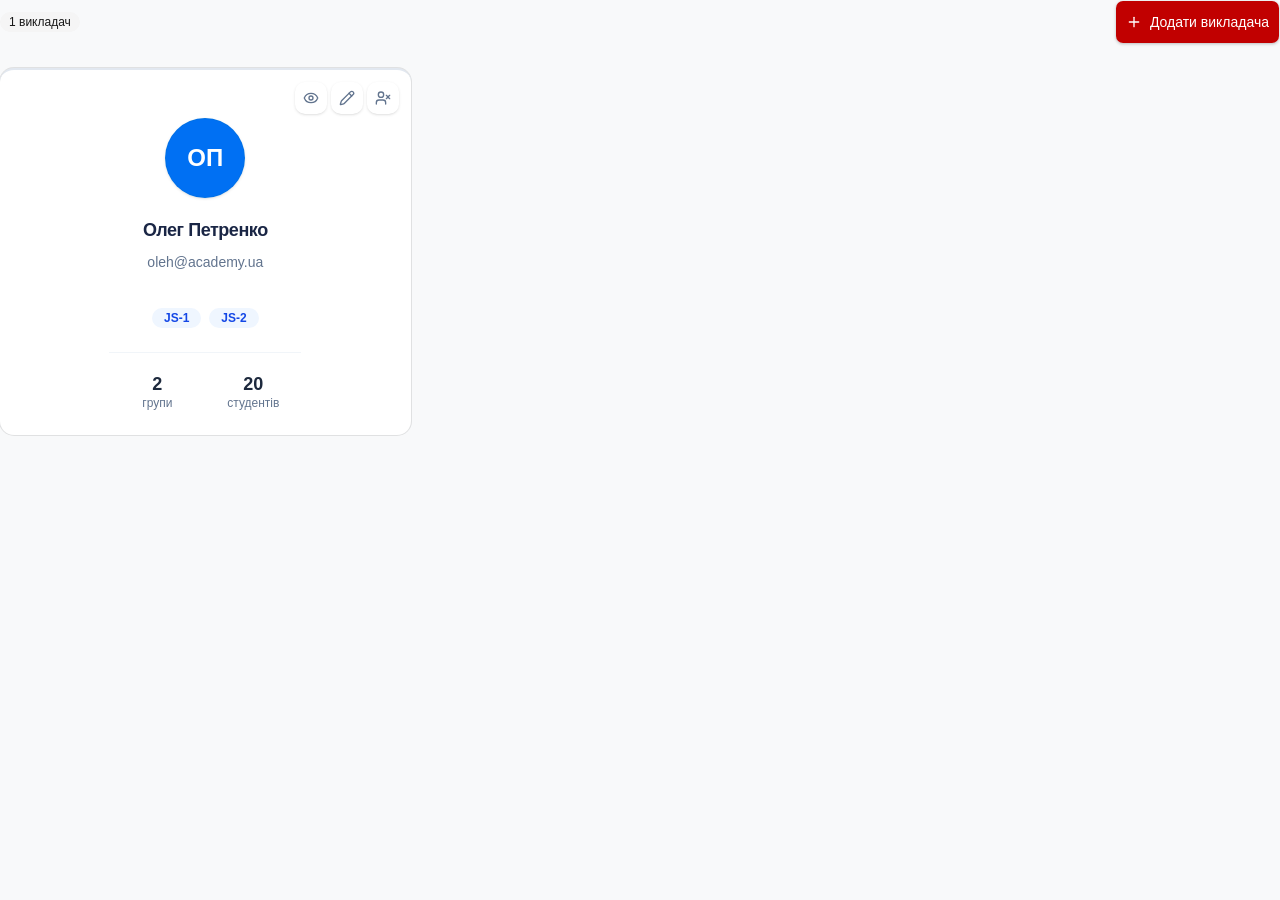
TeachersPage — групи й студенти викладача › у картці викладача — ті самі групи
Expected: the text "Олег Петренко" is shown, [143,218,268,244]
Click the button named "Переглянути картку: Олег Петренко": x=311, y=98 [295,82,327,114]
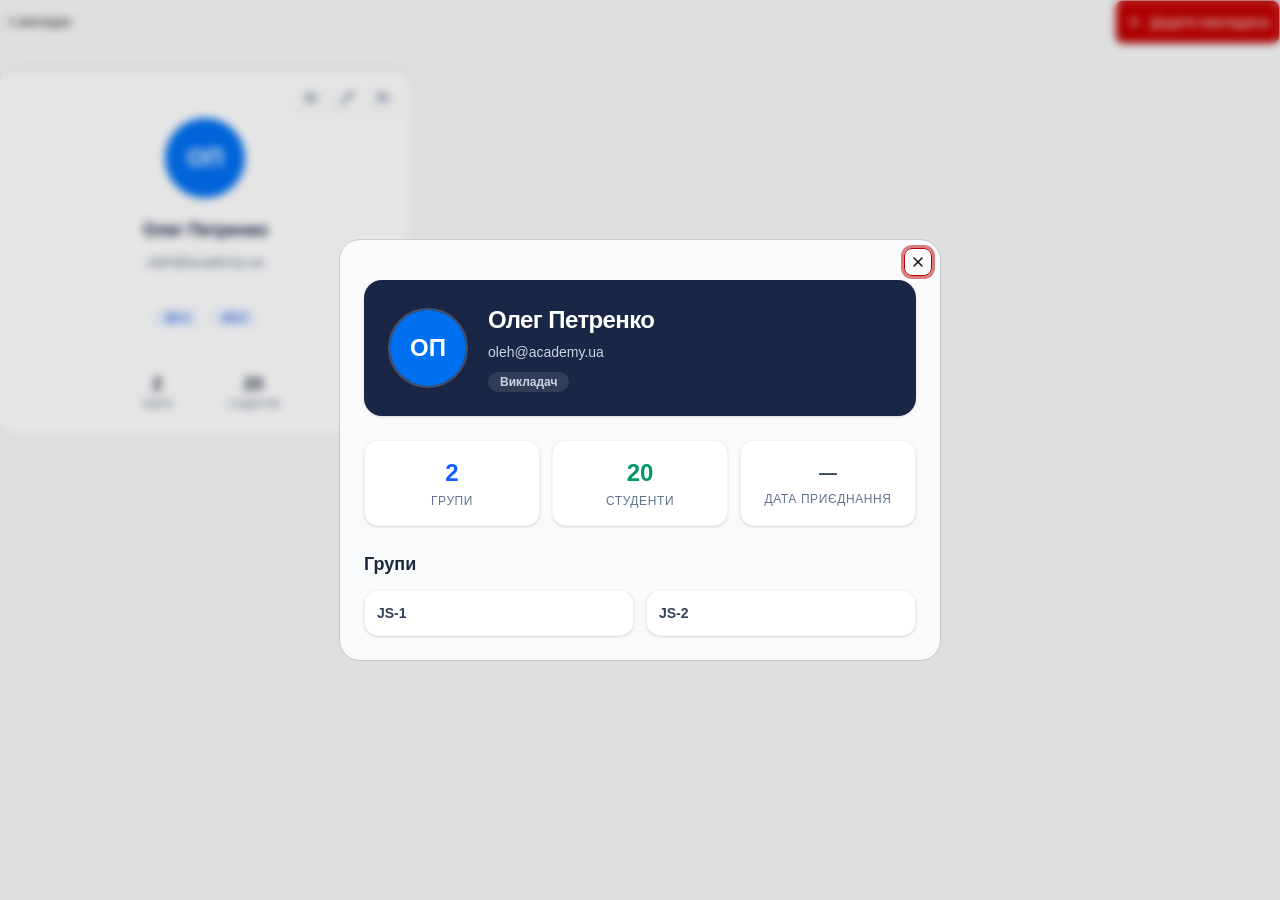
Expected: the text "JS-1" is shown, [377,603,407,623]
Expected: the text "JS-2" is shown, [659,603,689,623]
